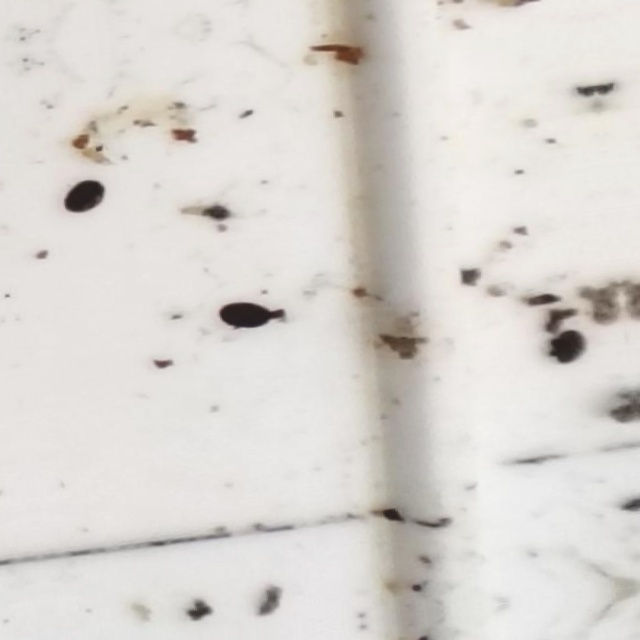varroa: (218, 299, 275, 335), (60, 177, 108, 217), (546, 327, 587, 367)
